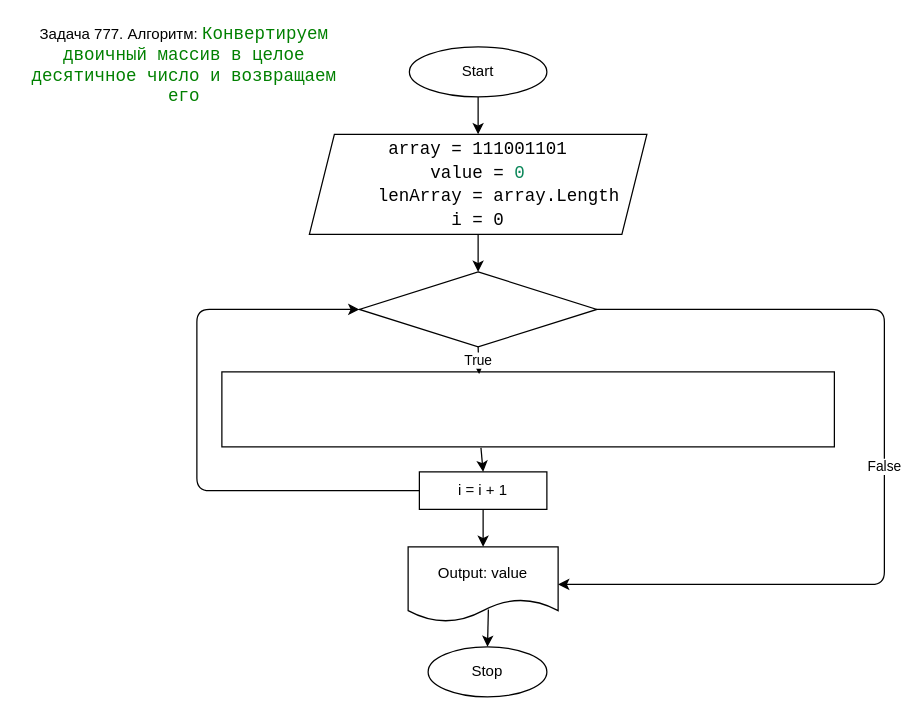
This 923x719 diagram has some shape labels left out. The centre of each missing label's shape, as x and y in pixels:
i < lenArray: (477,309)
value = value + array[lenArray - i - 1 ] * ( int )Math.Pow( 2 , i): (527,409)
